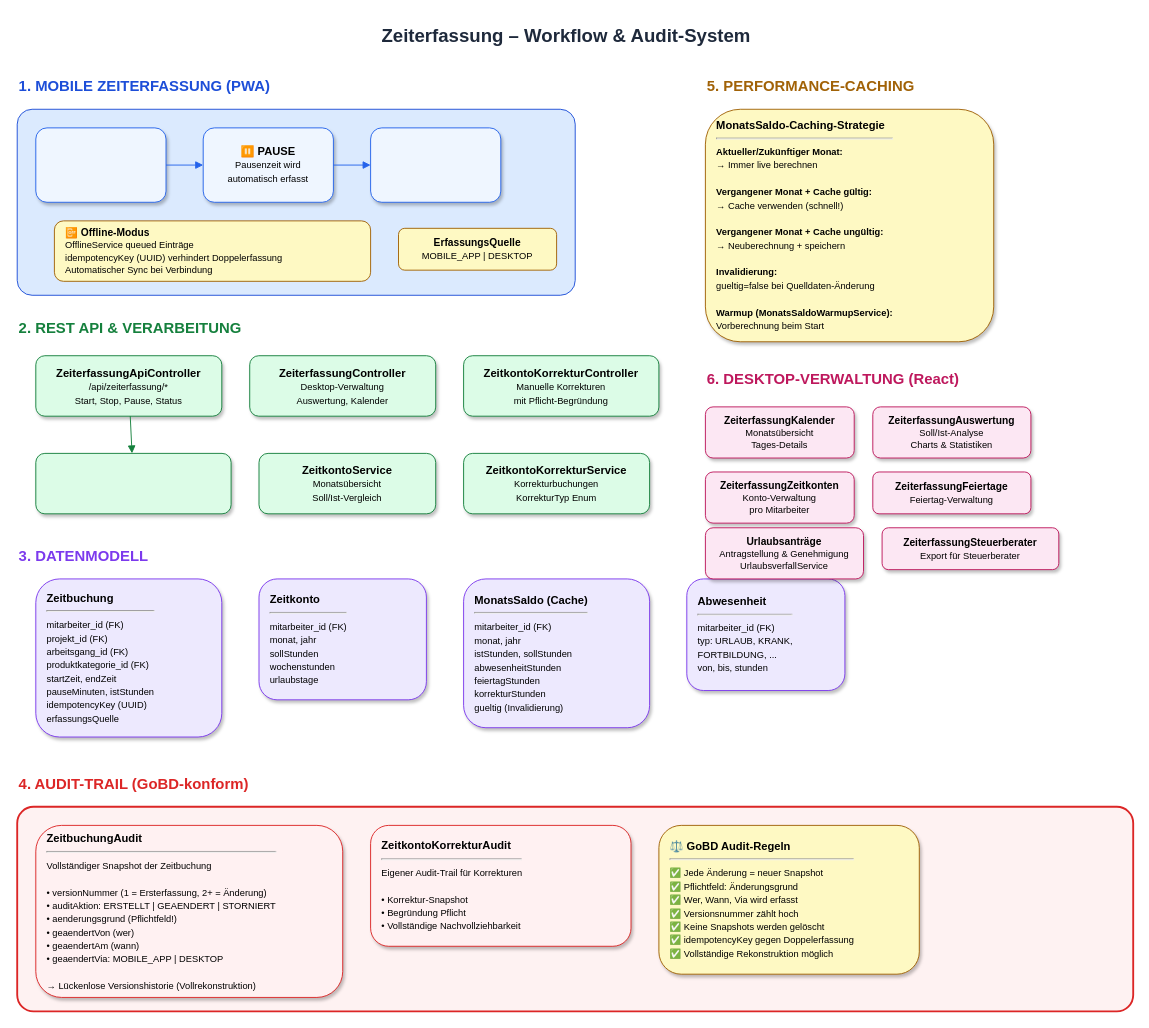
This 1149x1028 diagram has some shape labels left out. The centre of each missing label's shape, as x and y in pixels:
ZeiterfassungApiService Kernlogik für Start/Stop/Pause Berechnung Ist-Stunden: (x=134, y=484)
⏹️ STOP Session beenden Zeitbuchung erstellen: (x=436, y=166)
▶️ START Projekt wählen Arbeitsgang wählen Kategorie wählen: (x=101, y=166)
